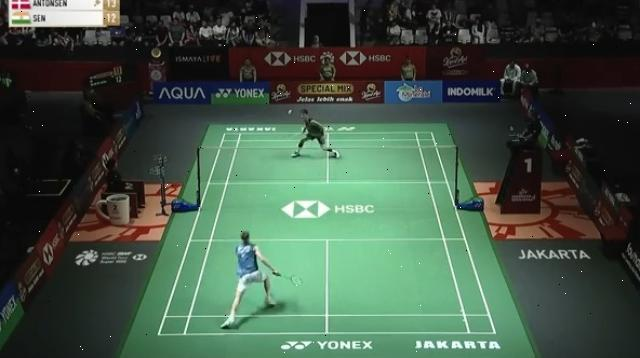Shuttlecock: (286, 105, 298, 119)
